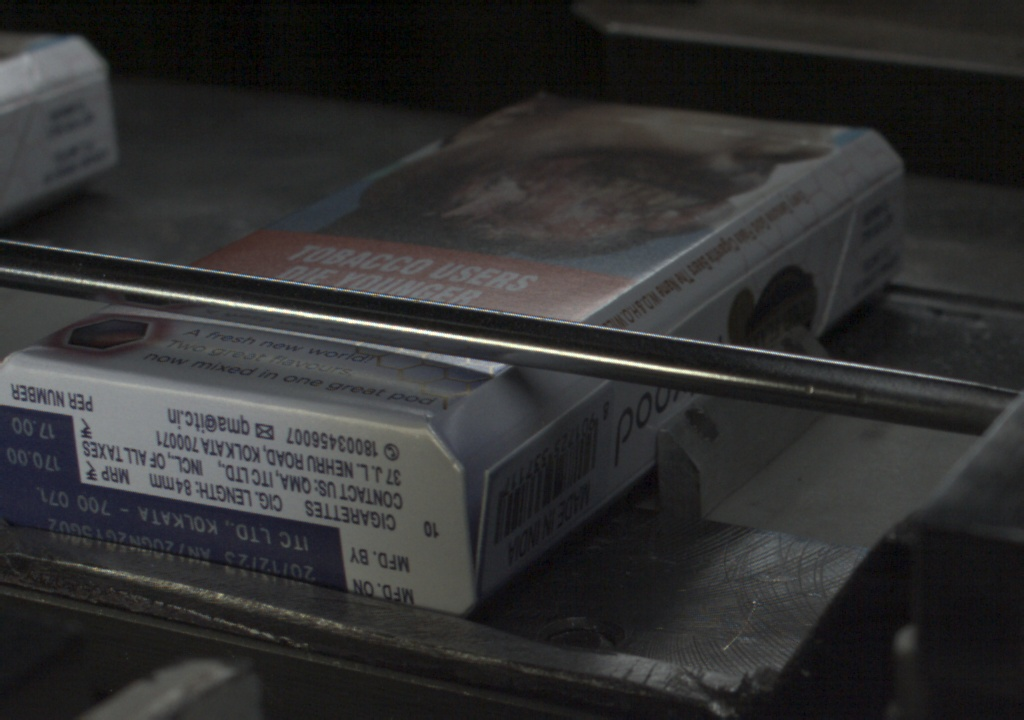g_bottom: (1, 371, 459, 616)
g_label: (1, 484, 350, 589)
g_lmiter: (682, 260, 770, 327), (525, 381, 606, 442), (764, 209, 842, 267)
g_miter: (861, 159, 908, 195)
ng_lmiter: (468, 441, 517, 571)
price: (1, 412, 85, 482)
